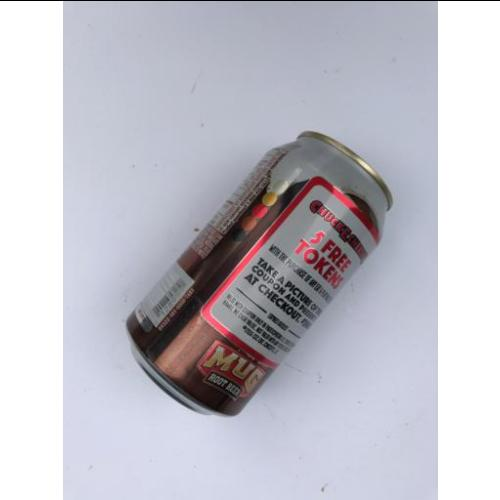metal: (125, 130, 393, 417)
